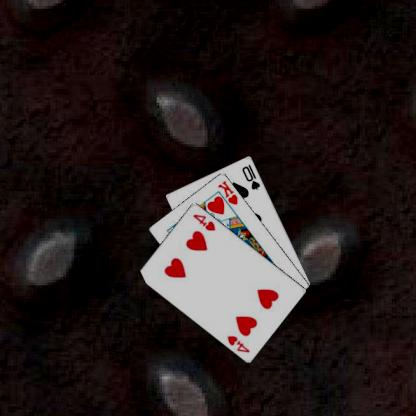10S: (241, 161, 263, 191)
4H: (227, 332, 253, 354), (192, 211, 219, 232)
KH: (217, 178, 241, 206)
